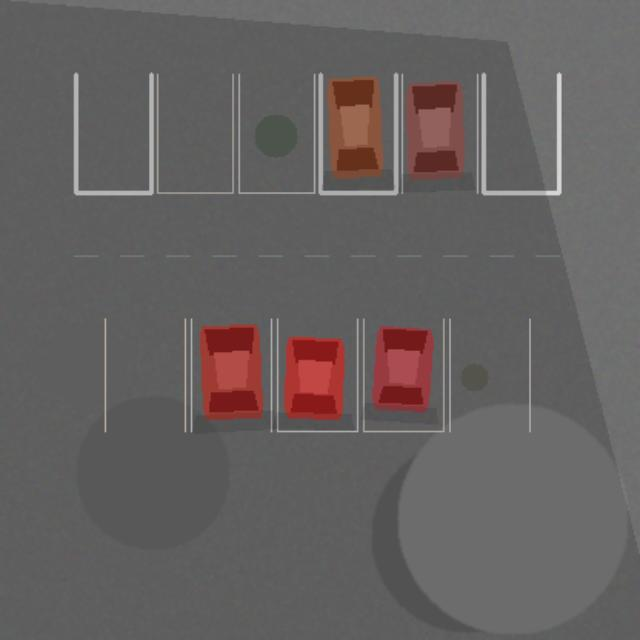space-empty: (105, 318, 185, 431), (449, 318, 529, 431), (75, 74, 151, 192), (238, 74, 314, 192), (157, 74, 232, 192), (483, 74, 558, 192)
space-occupied: (191, 318, 271, 431), (277, 318, 357, 431), (363, 318, 443, 431), (320, 74, 395, 192), (402, 74, 477, 192)
